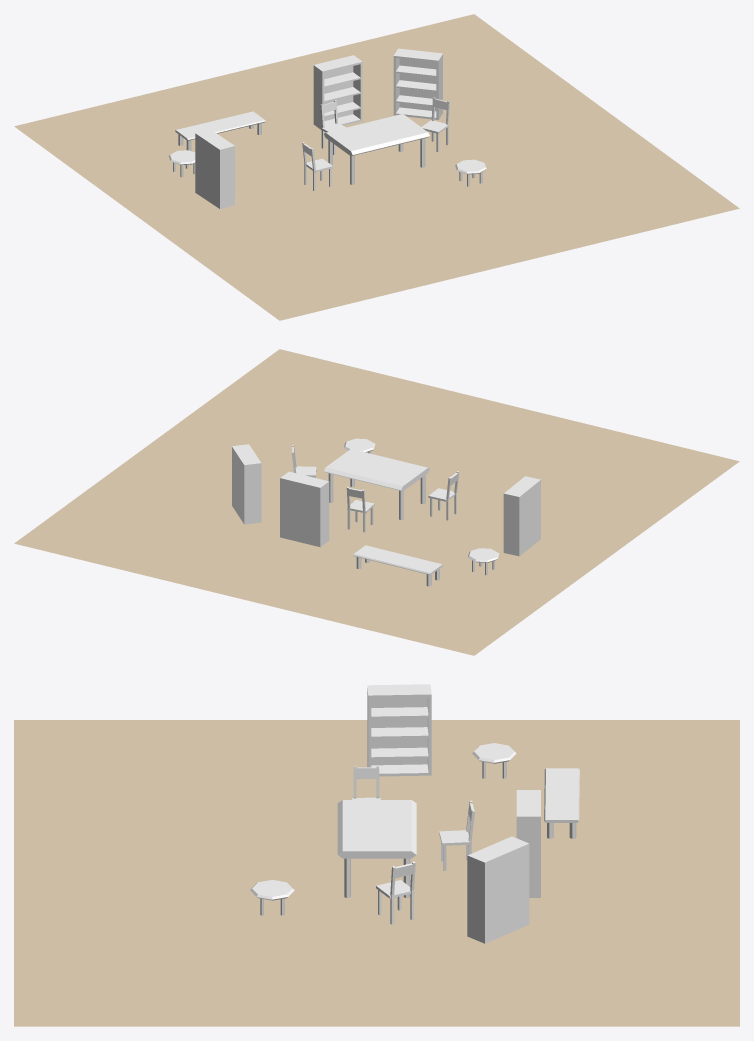
Rendered from bench2.glb.
3 renders of one model, top to bottom at view 1: azimuth 30°, elevation 25°; view 2: azimuth 150°, elevation 25°; view 3: azimuth 270°, elevation 25°, orthographic. The views are drawn at different scales.
Visible parts, largest first — view 1: Plane, Cube.002, Cube.006, Cube, Cube.007, Cube.001, Cube.005, Cube.003; view 2: Plane, Cube.006, Cube, Cube.007, Cube.002, Cube.001, Cube.004, Cube.003; view 3: Plane, Cube.007, Cube.002, Cube, Cube.001, Cube.006, Cube.005, Cube.004, Circle, Circle.001.
Boxes of the visible parts, box(x1,y1,x2,y2) form: Plane: box(14, 14, 739, 320); Cube.002: box(393, 48, 442, 119); Cube.006: box(313, 55, 362, 129); Cube: box(324, 114, 429, 184); Cube.007: box(195, 129, 234, 208); Cube.001: box(175, 111, 265, 150); Cube.005: box(421, 97, 449, 151); Cube.003: box(302, 142, 333, 190); Plane: box(14, 349, 739, 655); Cube.006: box(280, 471, 329, 547); Cube: box(324, 449, 429, 519); Cube.007: box(503, 476, 540, 556); Cube.002: box(232, 444, 261, 524); Cube.001: box(353, 545, 442, 586); Cube.004: box(346, 486, 374, 532); Cube.003: box(428, 471, 459, 520); Plane: box(14, 720, 739, 1026); Cube.007: box(367, 684, 431, 776); Cube.002: box(467, 836, 529, 943); Cube: box(337, 800, 416, 897); Cube.001: box(544, 768, 579, 838); Cube.006: box(516, 790, 540, 897); Cube.005: box(376, 861, 415, 924); Cube.004: box(439, 800, 474, 870); Circle: box(250, 880, 294, 915); Circle.001: box(472, 743, 516, 778).
Bounding box in the file's own units: 17.84 × 2.2 × 17.84.
